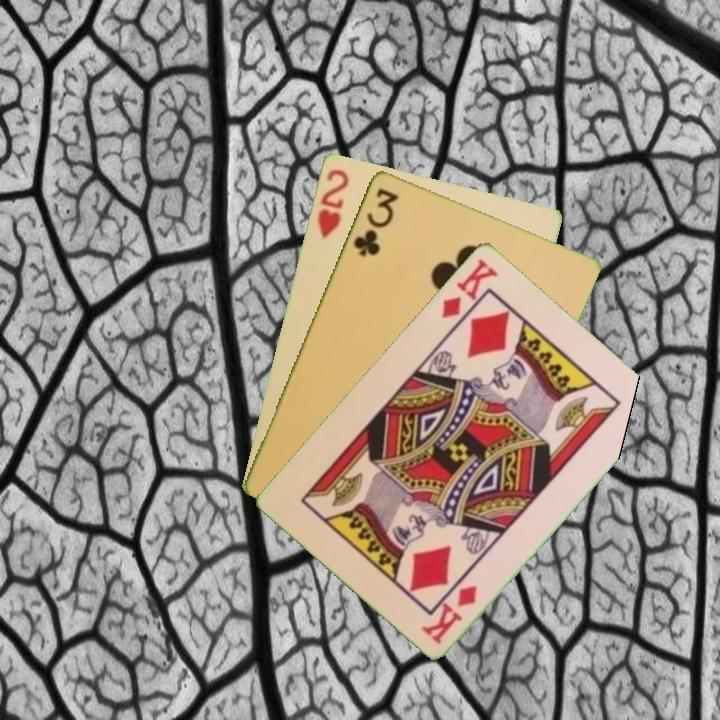2h: (314, 165, 352, 241)
3c: (349, 184, 401, 259)
Kd: (438, 254, 501, 321), (419, 580, 481, 647)
